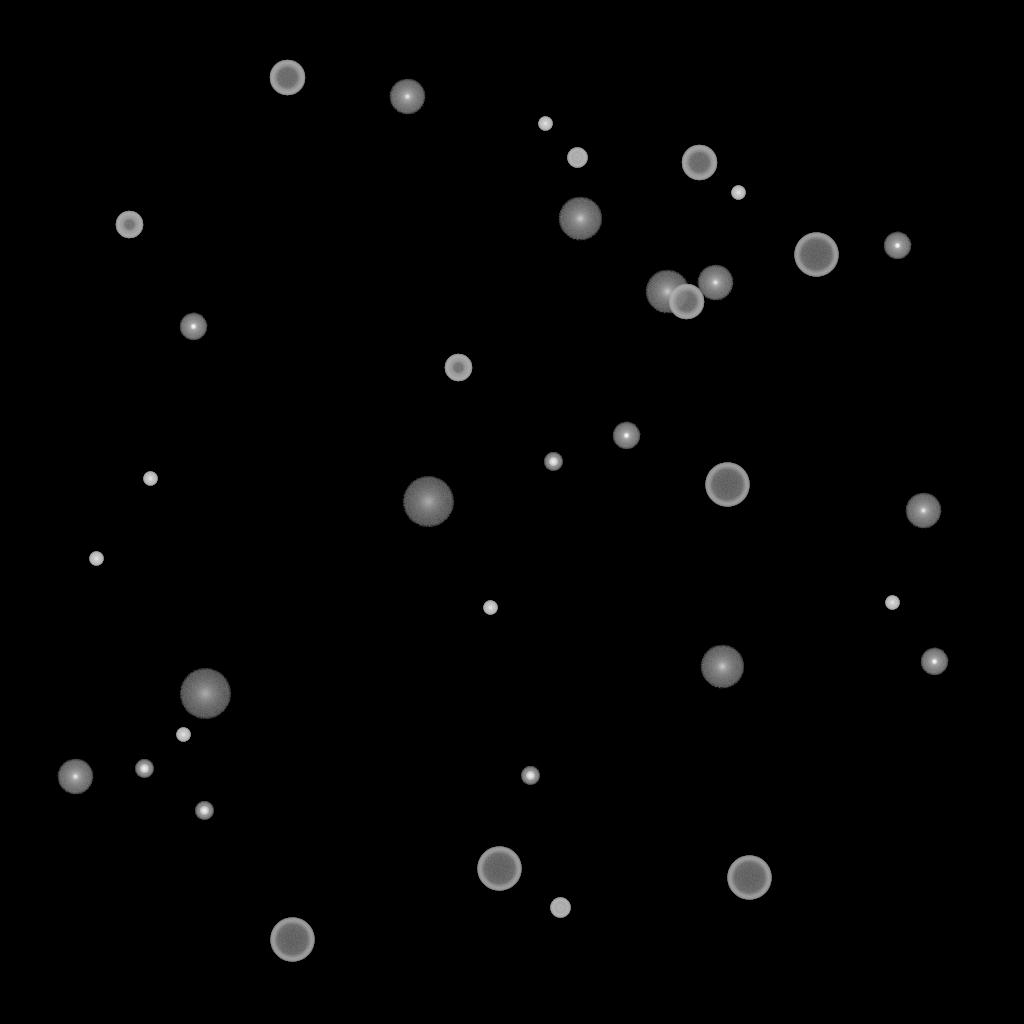depth:-10: (612, 422, 640, 450), (920, 648, 948, 676), (883, 232, 911, 260), (179, 313, 207, 341)
depth:-20: (135, 760, 153, 778), (544, 453, 562, 471), (195, 802, 213, 820), (521, 767, 539, 785)
depth:-30: (176, 728, 190, 742), (89, 552, 103, 566), (143, 472, 157, 486), (885, 596, 899, 610), (483, 601, 497, 615), (538, 117, 552, 131), (731, 186, 745, 200)
depth:-40: (550, 898, 570, 918), (567, 148, 587, 168)
depth:-50: (444, 354, 472, 382), (115, 211, 143, 239)
depth:-60: (668, 284, 704, 320), (681, 145, 717, 181), (269, 60, 305, 96)
depth:-70: (794, 233, 838, 277), (705, 463, 749, 507), (477, 847, 521, 891), (270, 918, 314, 962), (727, 856, 771, 900)
depth:0: (905, 493, 941, 529), (389, 79, 425, 115), (57, 759, 93, 795), (697, 265, 733, 301)
depth:10: (645, 270, 689, 314), (558, 197, 602, 241), (700, 645, 744, 689)
depth:20: (402, 477, 454, 527), (179, 669, 231, 719)
